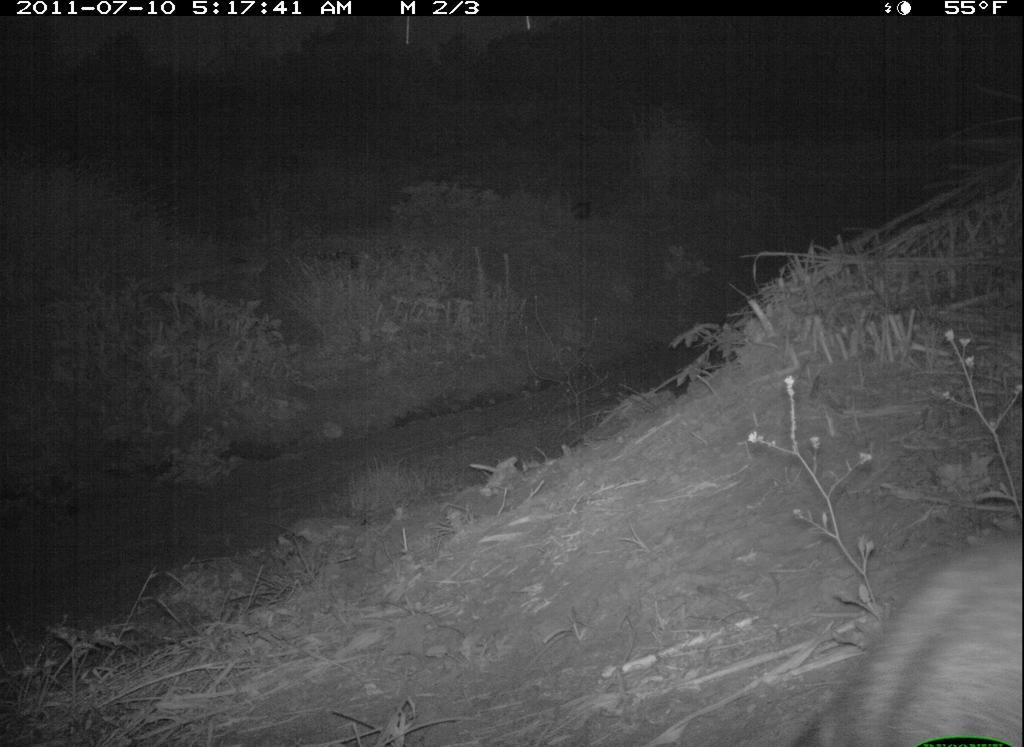raccoon: (781, 520, 1024, 747)
